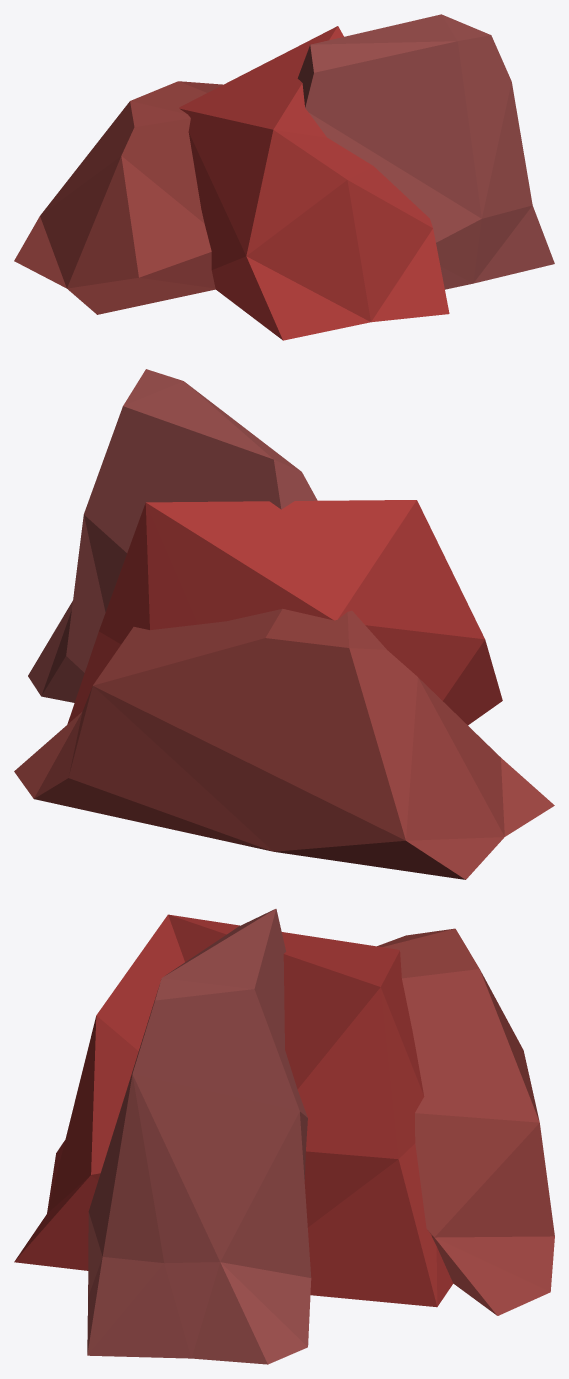
File: RAS_Rock05.fbx
3 renders of one model, top to bottom at view 1: azimuth 30°, elevation 25°; view 2: azimuth 150°, elevation 25°; view 3: azimuth 270°, elevation 25°, orthographic. The views are drawn at different scales.
Visible parts, largest first — view 1: RAS_Rock05; view 2: RAS_Rock05; view 3: RAS_Rock05.
Boxes of the visible parts, x1=… form: RAS_Rock05: x1=14, y1=14, x2=554, y2=340; RAS_Rock05: x1=14, y1=369, x2=554, y2=879; RAS_Rock05: x1=14, y1=909, x2=554, y2=1364.
Size of the model in its own units: 240 by 123 by 184.
1 material, 1 textured.
